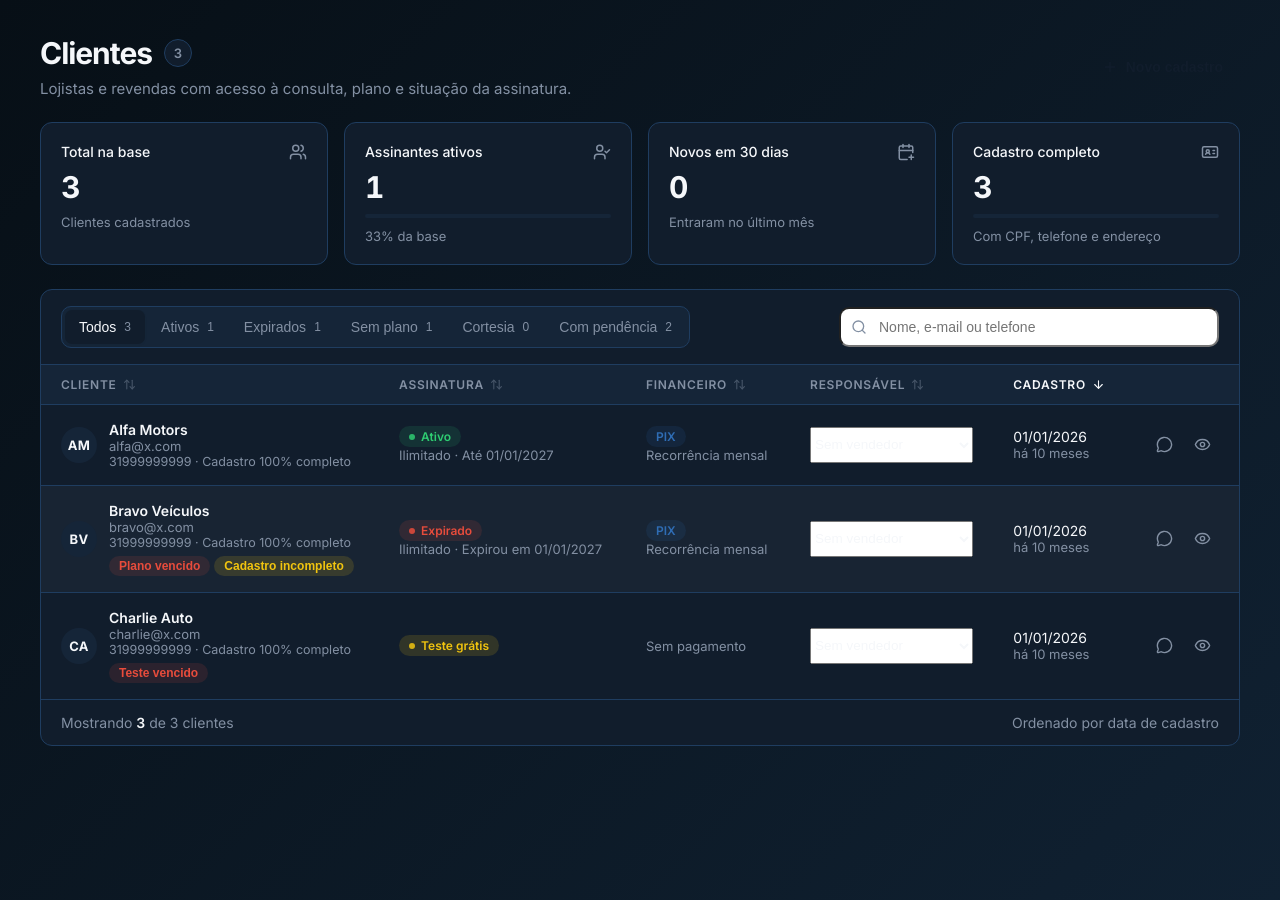
Test case: CRM: pendências na lista › filtra "Com pendência" com a contagem
The width and height of the screenshot is (1280, 900).
Expected: the text "Alfa Motors" is shown, left=109, top=420, right=188, bottom=438
Click the tab "Com pendência 2".
click(616, 326)  # box left=545, top=310, right=686, bottom=344
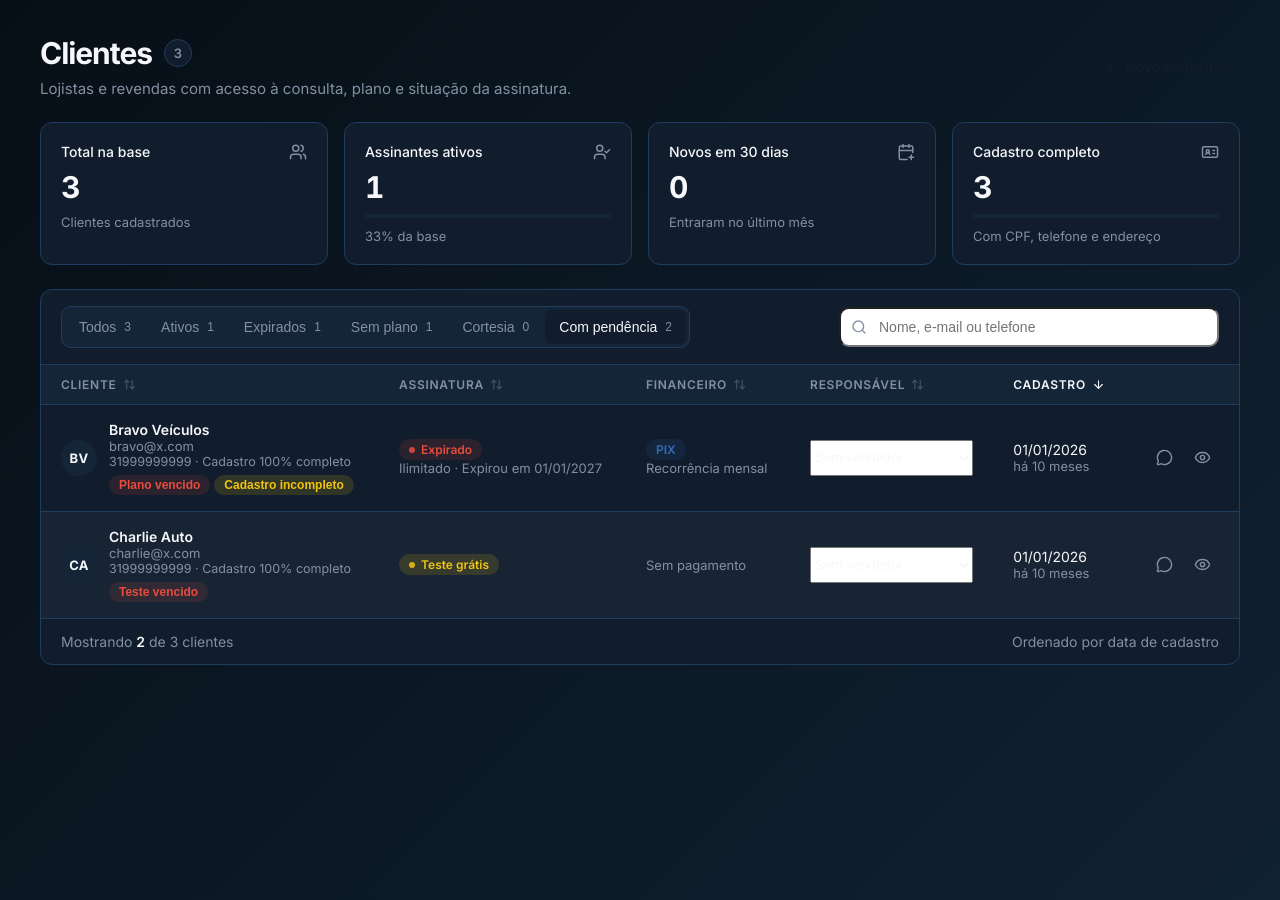
Result: the text "Alfa Motors" is gone
